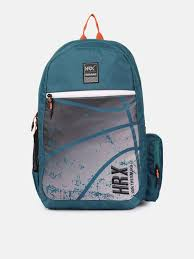backpack: (30, 13, 163, 210)
